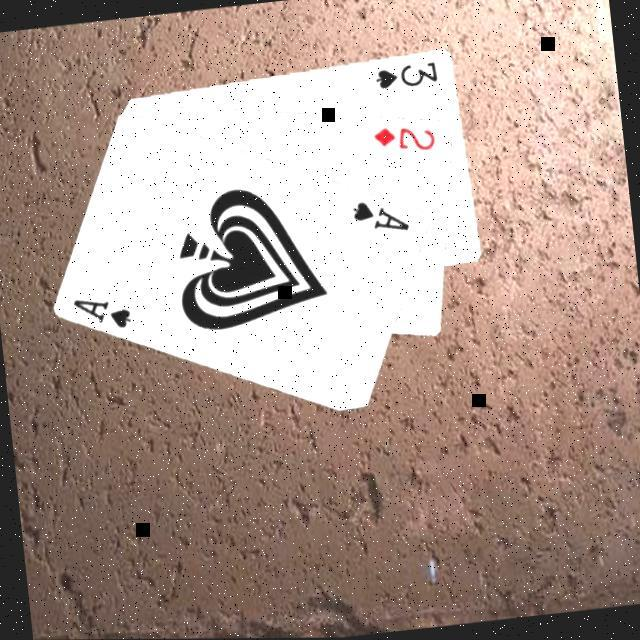2D: (370, 117, 440, 157)
3S: (372, 56, 442, 91)
AS: (69, 288, 137, 334), (348, 192, 414, 238)
